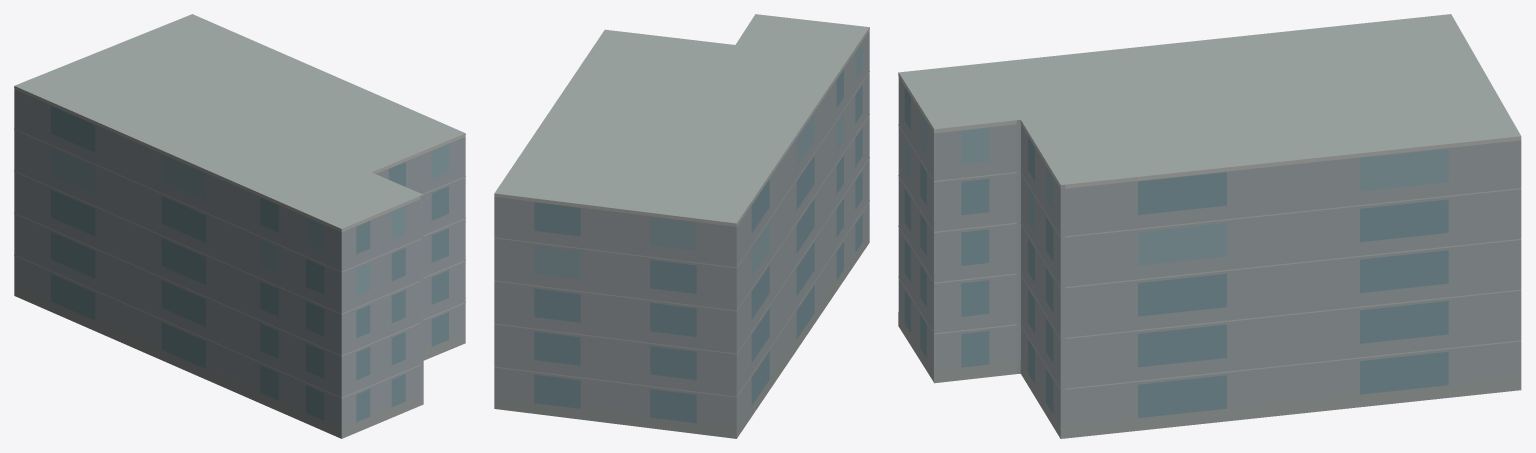
The model's file is survey-upis-33040433.glb.
3 renders of one model, left to right at view 1: azimuth 30°, elevation 25°; view 2: azimuth 150°, elevation 25°; view 3: azimuth 270°, elevation 25°, orthographic. The views are drawn at different scales.
Visible parts, largest first — view 1: survey-upis-33040433.tmp; view 2: survey-upis-33040433.tmp; view 3: survey-upis-33040433.tmp.
Part boxes in pixels (bbox=[...]): survey-upis-33040433.tmp: bbox=[14, 14, 465, 438]; survey-upis-33040433.tmp: bbox=[494, 14, 869, 438]; survey-upis-33040433.tmp: bbox=[898, 14, 1521, 438].
Bounding box in the file's own units: 22.06 × 15.25 × 33.94.
